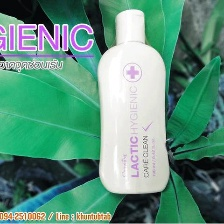cleaning_solution: (95, 6, 171, 197)
